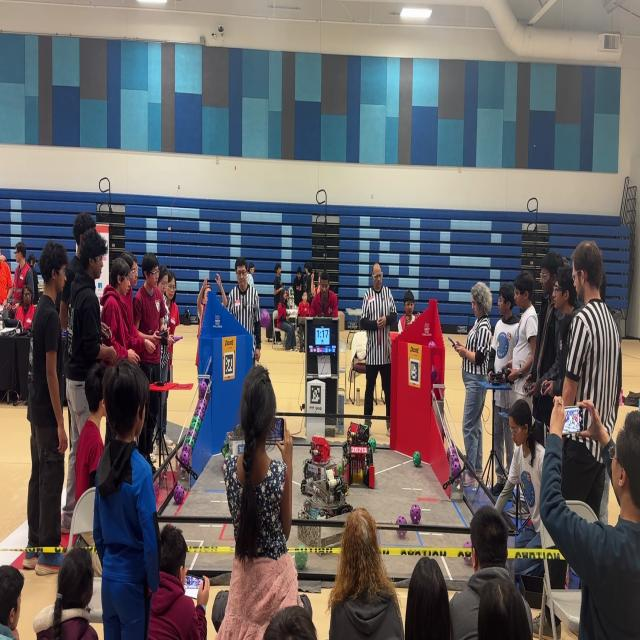artifact_green: (295, 551, 307, 570), (199, 379, 208, 398), (413, 451, 421, 467), (369, 437, 376, 452), (185, 436, 194, 447), (193, 421, 201, 430), (189, 421, 197, 430), (188, 423, 196, 432), (191, 416, 197, 427), (195, 417, 201, 428), (194, 425, 200, 435), (192, 414, 198, 421), (192, 413, 197, 421), (338, 466, 342, 475), (303, 463, 305, 471)
artifact_purple: (260, 309, 272, 328), (410, 504, 421, 524), (174, 485, 185, 504), (451, 459, 461, 478), (180, 449, 190, 466), (199, 380, 208, 398), (197, 406, 206, 421), (195, 399, 202, 414), (193, 417, 201, 430), (178, 446, 186, 459), (431, 366, 437, 383), (190, 415, 197, 428), (154, 481, 159, 499), (187, 429, 196, 439), (183, 444, 191, 455), (452, 450, 459, 462), (464, 555, 472, 565), (396, 516, 406, 524), (202, 398, 208, 411), (196, 398, 203, 409), (446, 448, 450, 462), (428, 341, 436, 347)
